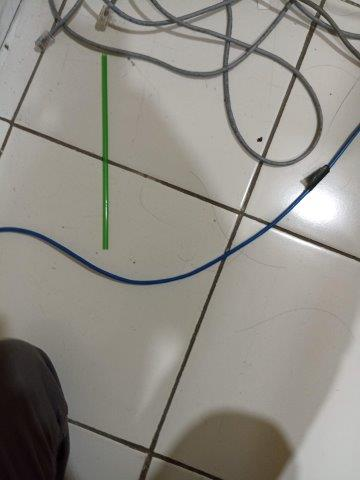sedotan: (101, 54, 108, 249)
